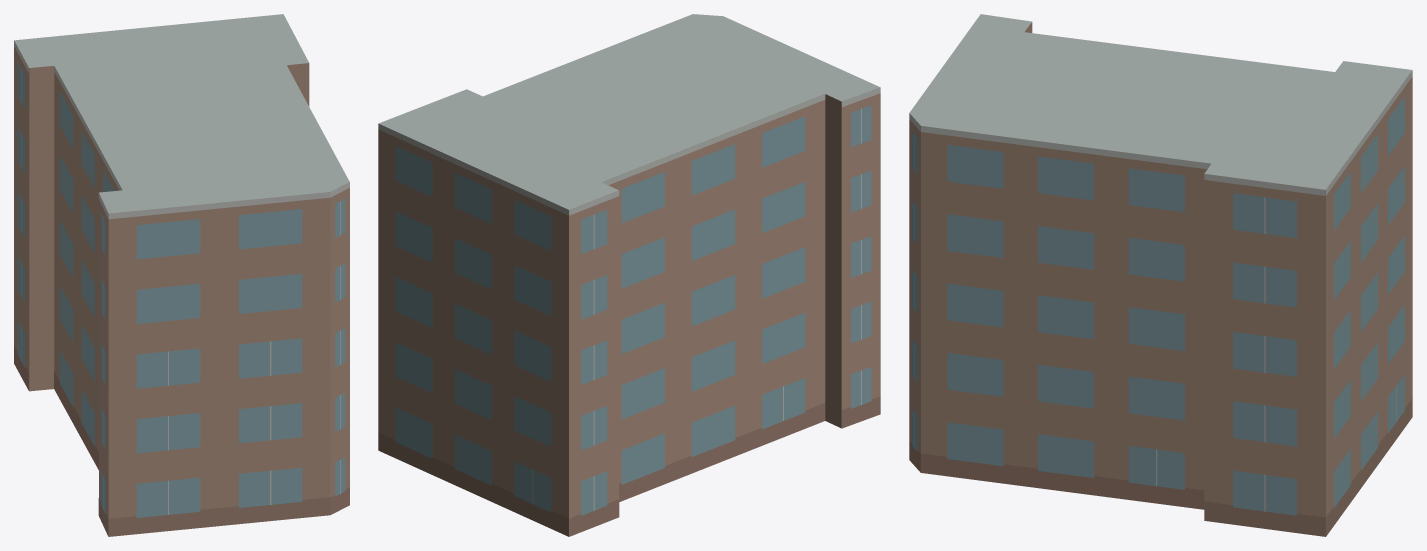
File: survey-upis-32869526.glb
The picture shows the model from 3 angles, left to right: view 1: azimuth 30°, elevation 25°; view 2: azimuth 150°, elevation 25°; view 3: azimuth 270°, elevation 25°; orthographic projection. The views are drawn at different scales.
Visible parts, largest first — view 1: survey-upis-32869526.tmp; view 2: survey-upis-32869526.tmp; view 3: survey-upis-32869526.tmp.
Boxes of the visible parts, box(x1,y1,x2,y2) form: survey-upis-32869526.tmp: box(14, 14, 349, 536); survey-upis-32869526.tmp: box(378, 14, 880, 536); survey-upis-32869526.tmp: box(909, 14, 1412, 536).
Bounding box in the file's own units: 15.01 × 13.8 × 18.15.
